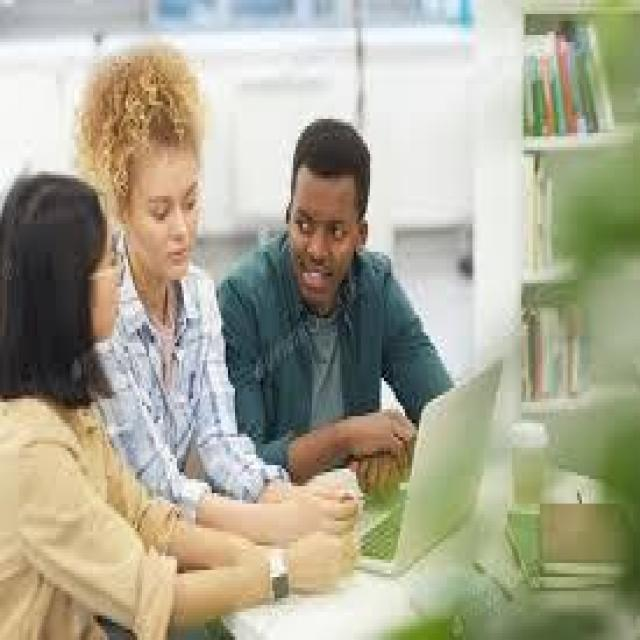person: (58, 4, 265, 566), (219, 84, 461, 539), (5, 129, 200, 619)
